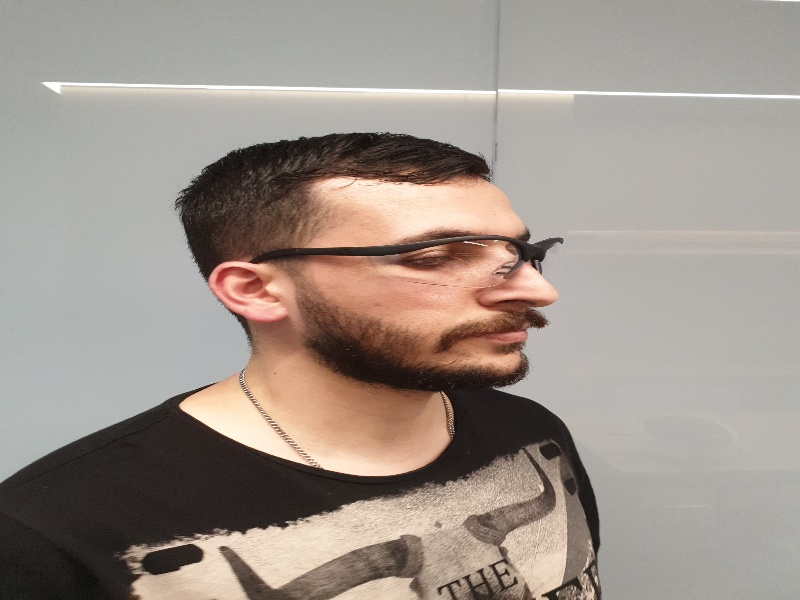Gozluk: (261, 238, 564, 288)
